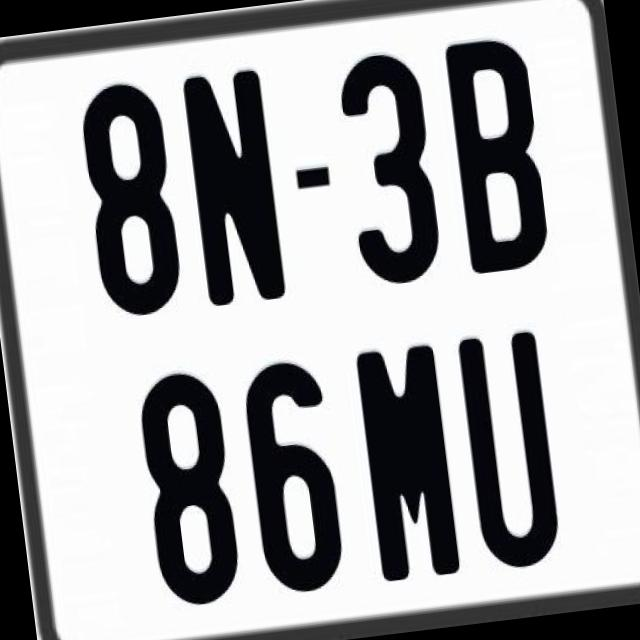3: (334, 47, 446, 286)
6: (236, 358, 344, 606)
8: (76, 75, 193, 325), (130, 365, 246, 616)
B: (441, 36, 550, 284)
M: (353, 344, 464, 592)
N: (178, 65, 288, 308)
U: (455, 330, 565, 576)
